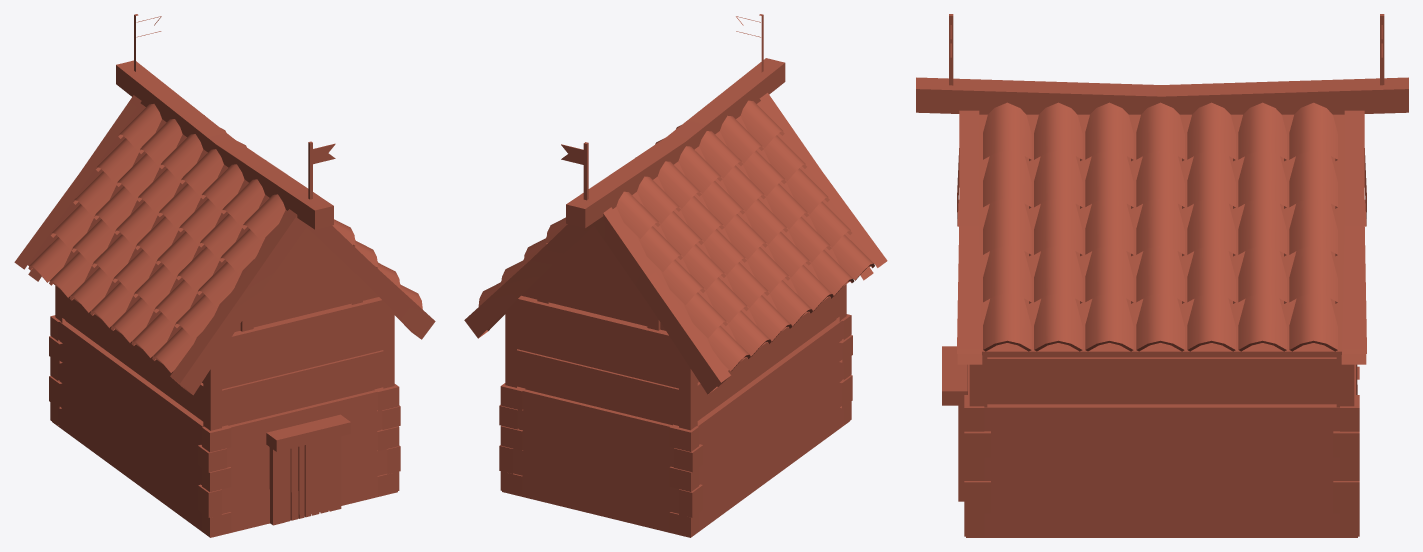
File: housing-extra-house-a.glb
The picture shows the model from 3 angles, left to right: view 1: azimuth 30°, elevation 25°; view 2: azimuth 150°, elevation 25°; view 3: azimuth 270°, elevation 25°; orthographic projection. The views are drawn at different scales.
Parts seen in each view (by area): view 1: Houses_SecondAge_1_Level3; view 2: Houses_SecondAge_1_Level3; view 3: Houses_SecondAge_1_Level3.
Boxes of the visible parts, left/top/right/bottom form: Houses_SecondAge_1_Level3: left=14, top=14, right=435, bottom=537; Houses_SecondAge_1_Level3: left=464, top=14, right=887, bottom=537; Houses_SecondAge_1_Level3: left=916, top=14, right=1408, bottom=537.
Size of the model in its own units: 0.7258 by 1 by 0.9561.
